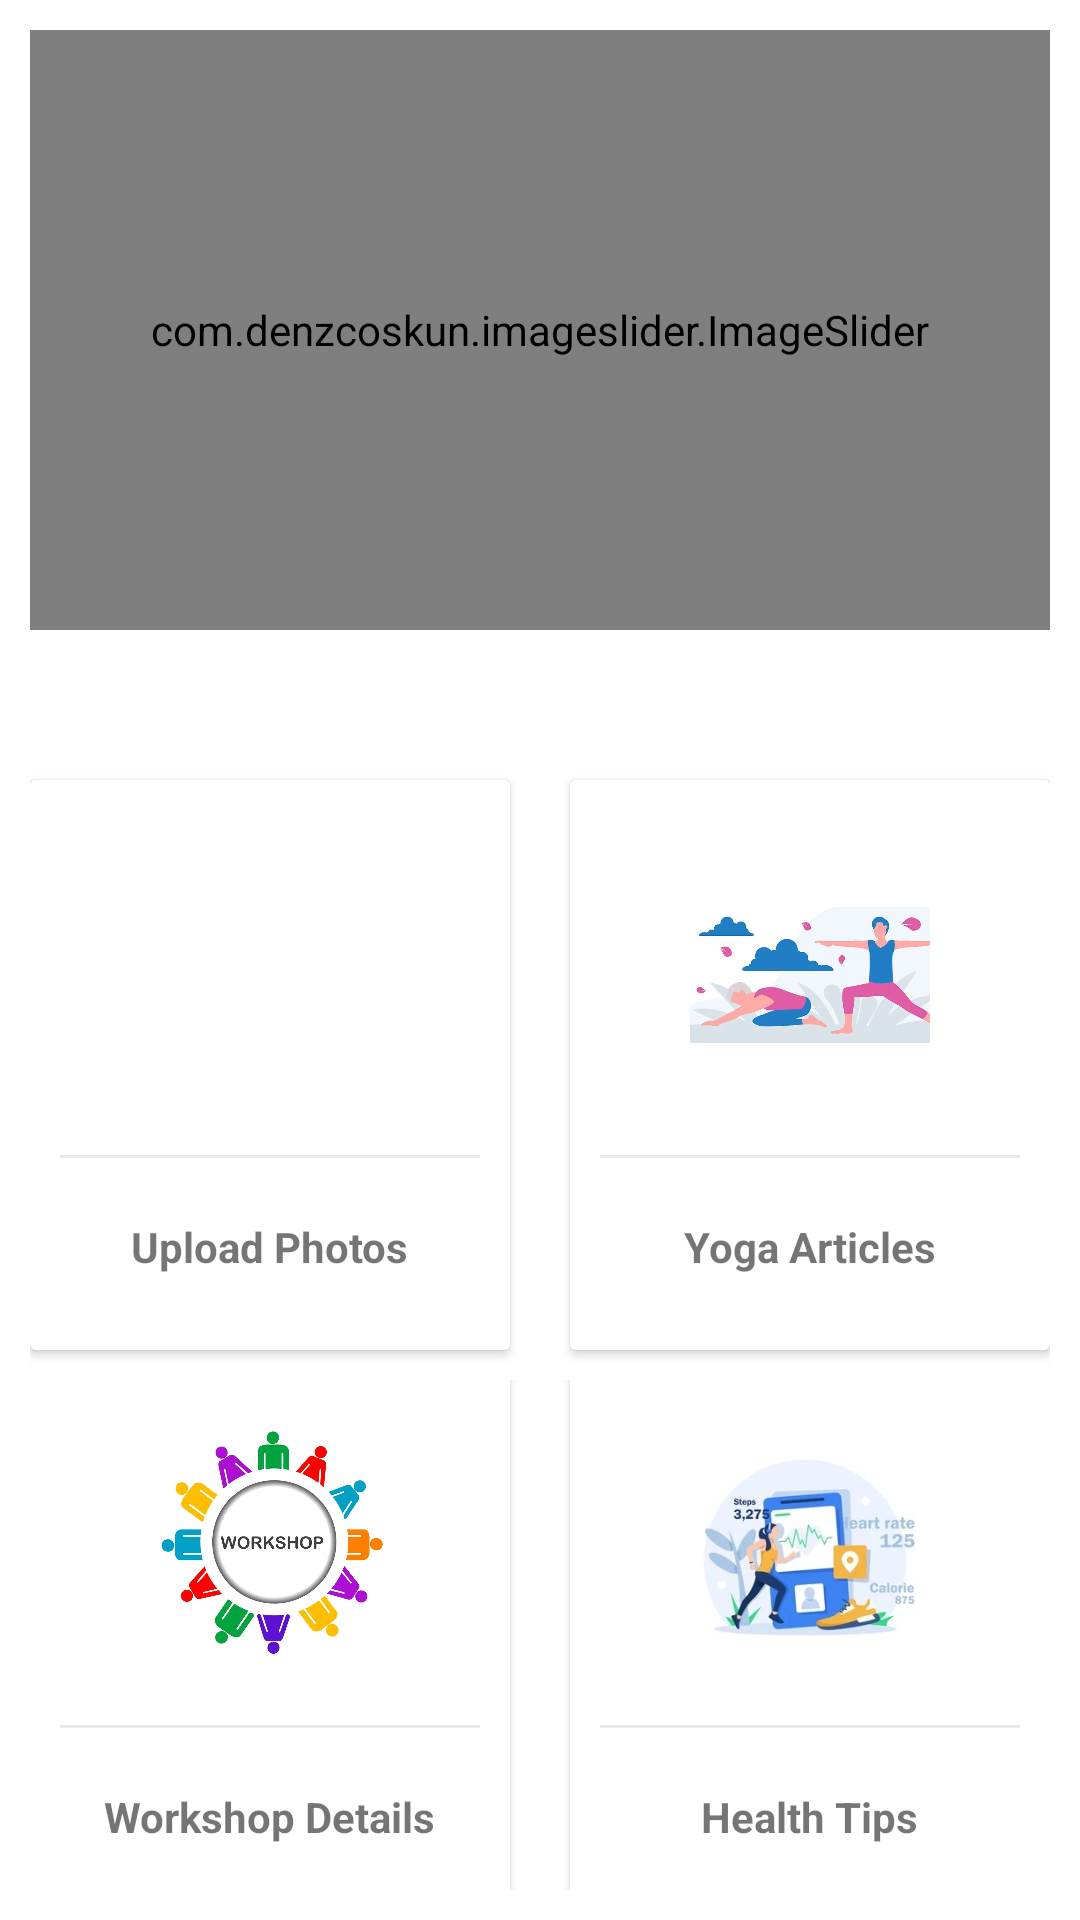

Locate icon controls on the screen. Image size 1080 × 1920, boxes as (x1, y1, x2, y2).
lifestyle: (705, 1488, 915, 1635)
yogatemp: (690, 916, 930, 1043)
